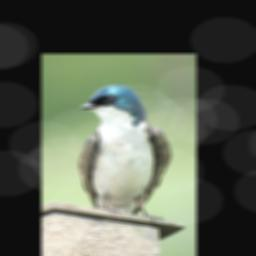Swallow: (71, 79, 177, 230)
